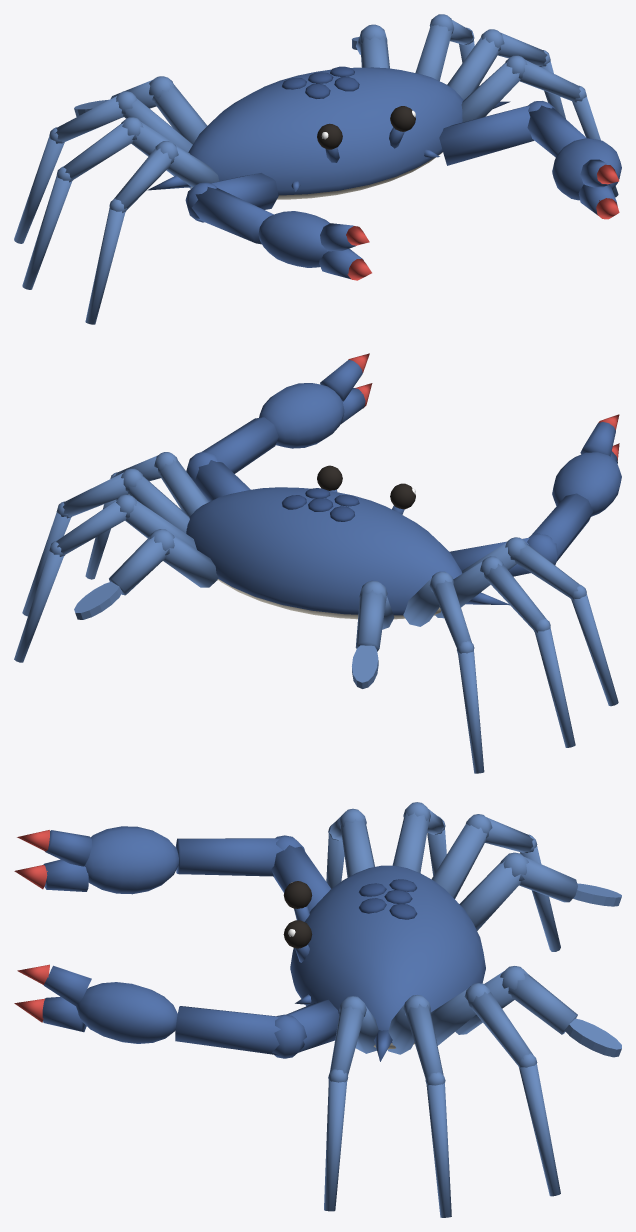
Rendered from sea-blue-crab.glb.
3 views of the same model, one above another, from view 1: azimuth 30°, elevation 25°; view 2: azimuth 150°, elevation 25°; view 3: azimuth 270°, elevation 25° (orthographic). The views are drawn at different scales.
Visible parts, largest first — view 1: crab; view 2: crab; view 3: crab.
Boxes of the visible parts, x1,y1,x2,y2 form: crab: (14,14,621,324); crab: (14,353,621,773); crab: (14,802,621,1217).
Bounding box in the file's own units: 0.5102 × 0.1455 × 0.4437.
